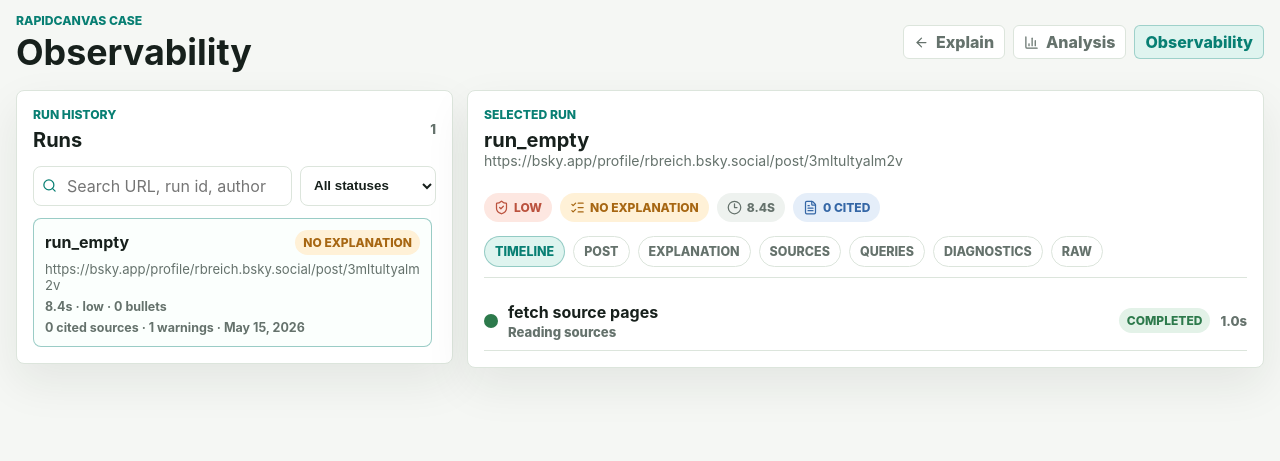
Test: ObservabilityPage › renders zero-bullet runs as no explanation
Check: the text "no explanation" is shown 2 times, box [295,230,420,255]; [560,193,709,222]
What coordinates should you click on to do the following:
click the button "explanation"
I would click on:
 (694, 251)
Its box is [638,236,751,267].
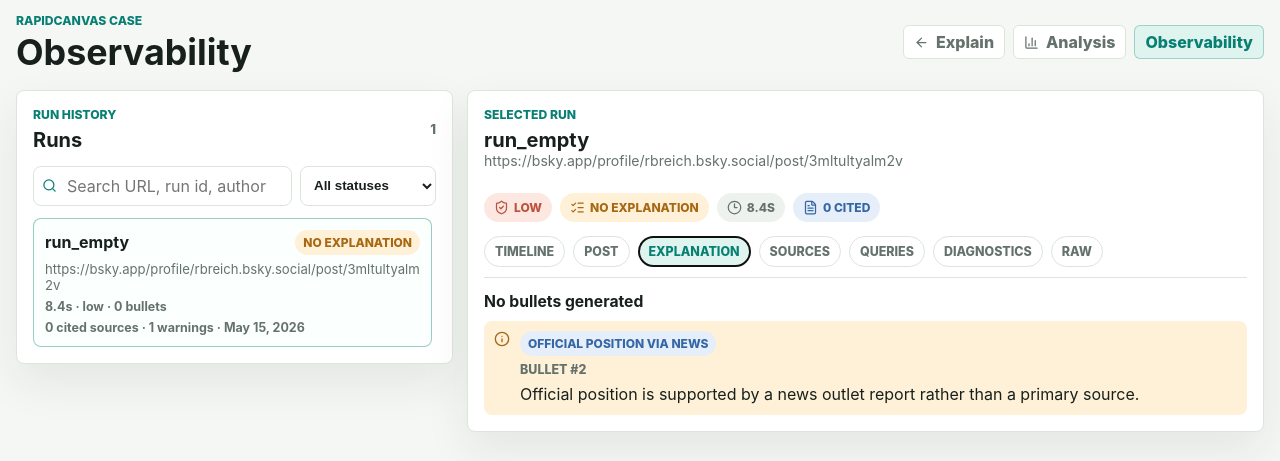
Check: the heading "No bullets generated" is shown, box [484,292,643,311]
